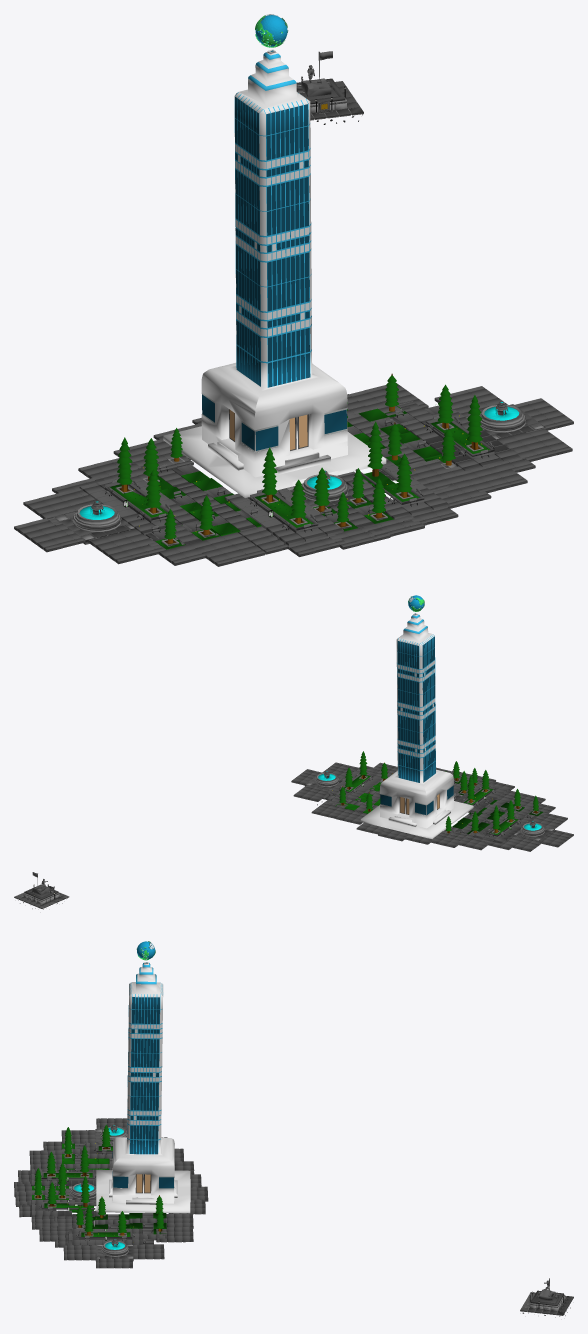
The model's file is topBranda.glb.
3 renders of one model, top to bottom at view 1: azimuth 30°, elevation 25°; view 2: azimuth 150°, elevation 25°; view 3: azimuth 270°, elevation 25°, orthographic. The views are drawn at different scales.
Parts seen in each view (by area): view 1: new tower, Sphere.003; view 2: new tower; view 3: new tower.
Part boxes in pixels (x1=…): new tower: x1=14, y1=49, x2=573, y2=566; Sphere.003: x1=255, y1=14, x2=288, y2=47; new tower: x1=14, y1=613, x2=573, y2=909; new tower: x1=14, y1=962, x2=573, y2=1317.
Size of the model in its own units: 1275 by 784 by 1528.
